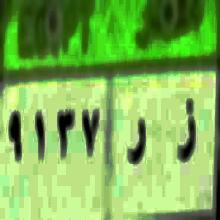1: (32, 110, 46, 167)
3: (54, 104, 76, 166)
7: (81, 104, 102, 164)
9: (8, 108, 24, 170)
raa: (127, 118, 146, 174)
zay: (175, 94, 197, 174)
